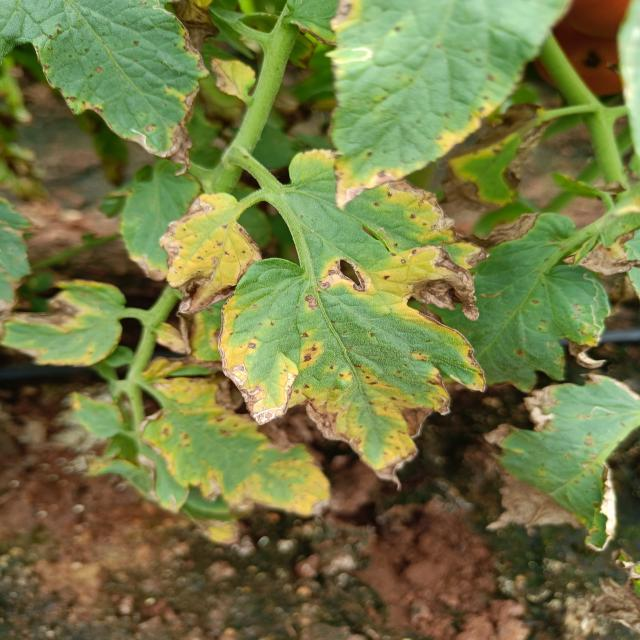Tomato mosaic virus leaf: (212, 254, 490, 490), (286, 145, 486, 325), (33, 15, 215, 120), (150, 191, 266, 321)
